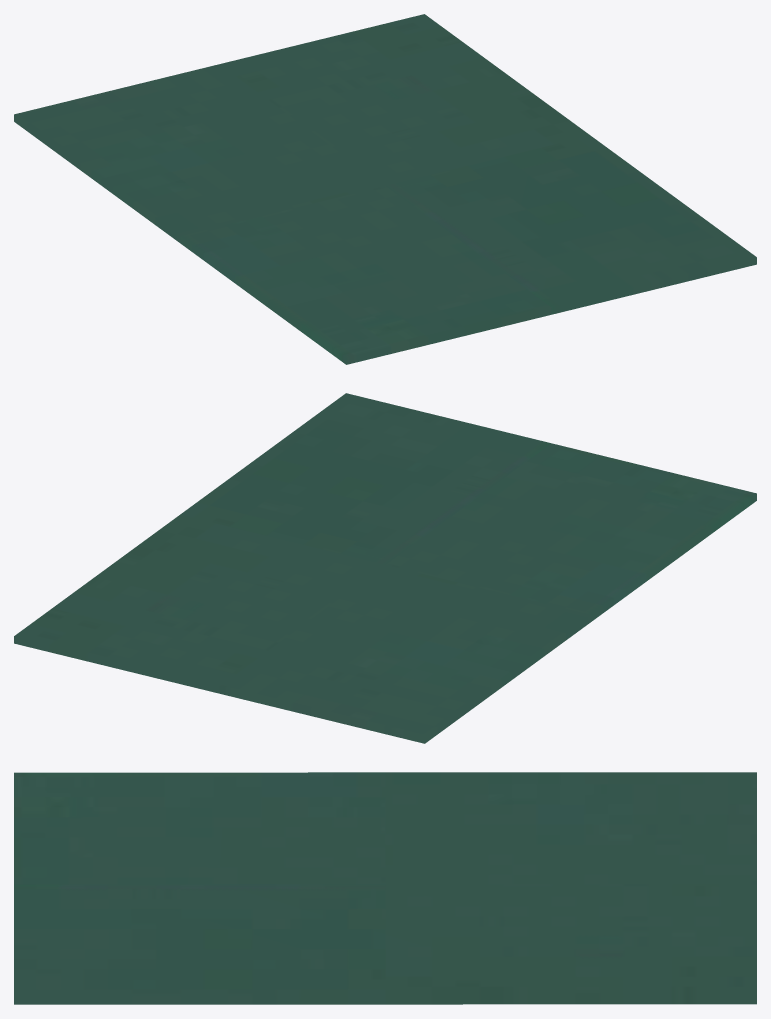
3 views of the same model, one above another, from view 1: azimuth 30°, elevation 25°; view 2: azimuth 150°, elevation 25°; view 3: azimuth 270°, elevation 25° (orthographic). The views are drawn at different scales.
Visible parts, largest first — view 1: 30436272704370635630_0; view 2: 30436272704370635630_0; view 3: 30436272704370635630_0.
Boxes of the visible parts, bbox=[...] form: 30436272704370635630_0: bbox=[14, 14, 756, 364]; 30436272704370635630_0: bbox=[14, 393, 756, 743]; 30436272704370635630_0: bbox=[14, 772, 756, 1004].
Bounding box in the file's own units: 27.32 × 0.4797 × 38.26.
1 material, 1 textured.
